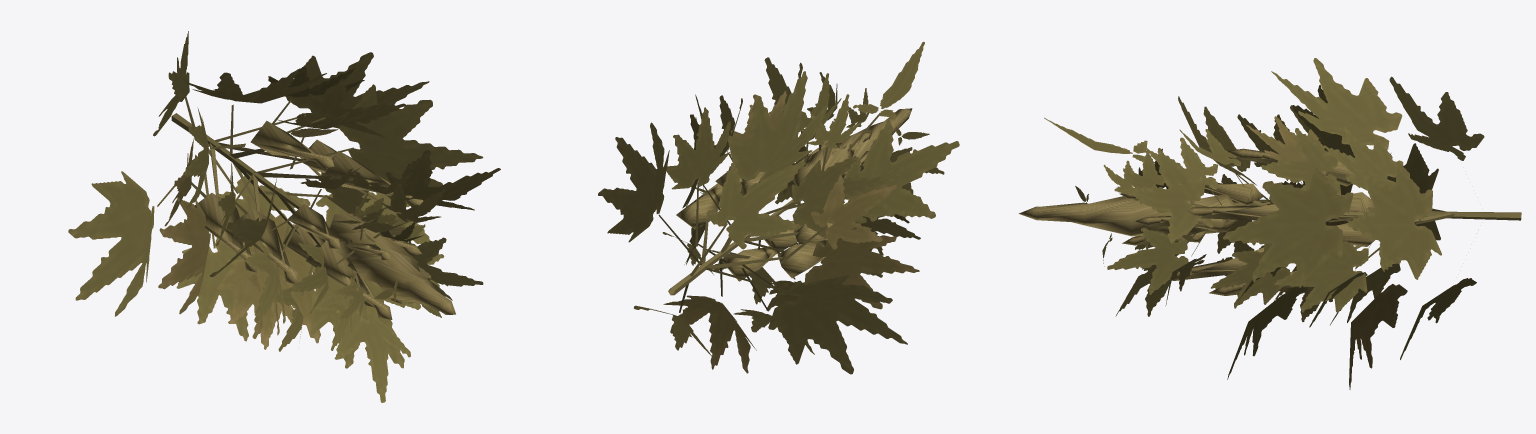
File: p_tree_ripe_c2_cards.obj
3 renders of one model, left to right at view 1: azimuth 30°, elevation 25°; view 2: azimuth 150°, elevation 25°; view 3: azimuth 270°, elevation 25°, orthographic. The views are drawn at different scales.
Bounding box in the file's own units: 1.66 × 1.43 × 1.81.
1 material, 1 textured.
